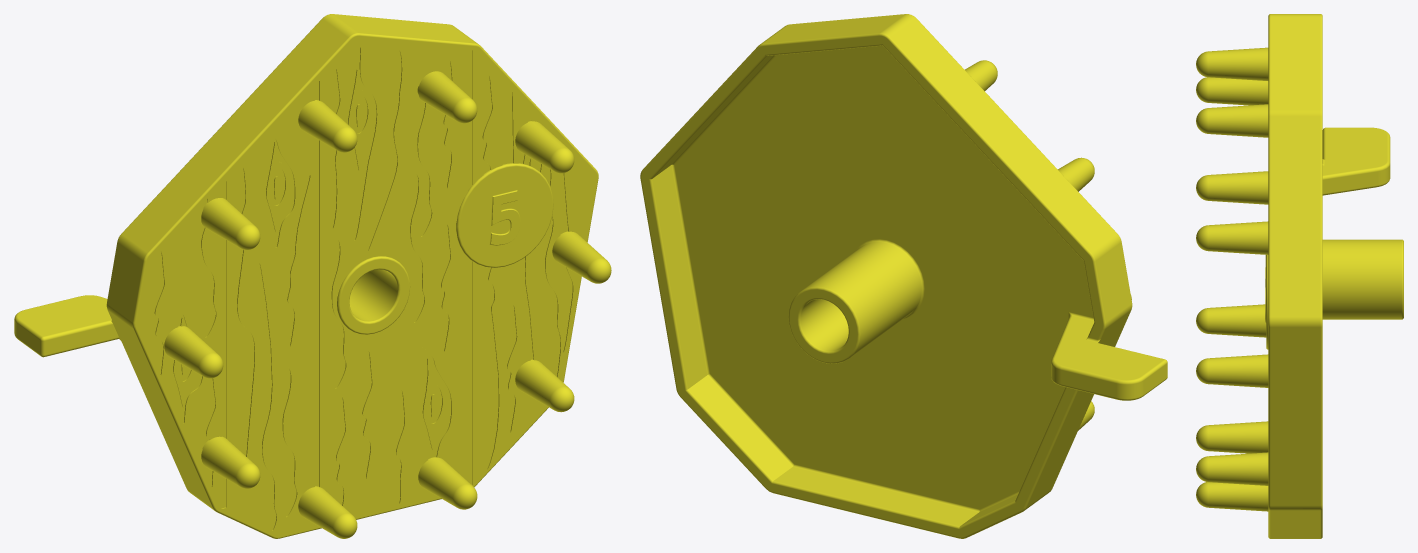
The model's file is PART 5 GEAR WHEEL.fbx.
3 renders of one model, left to right at view 1: azimuth 30°, elevation 25°; view 2: azimuth 150°, elevation 25°; view 3: azimuth 270°, elevation 25°, orthographic. The views are drawn at different scales.
Visible parts, largest first — view 1: PART 5 GEAR WHEEL; view 2: PART 5 GEAR WHEEL; view 3: PART 5 GEAR WHEEL.
Part boxes in pixels (box(x1,y1,x2,y2)): PART 5 GEAR WHEEL: box(14, 14, 611, 538); PART 5 GEAR WHEEL: box(640, 14, 1167, 538); PART 5 GEAR WHEEL: box(1196, 14, 1403, 538).
Size of the model in its own units: 6.93 by 6.08 by 2.44.
